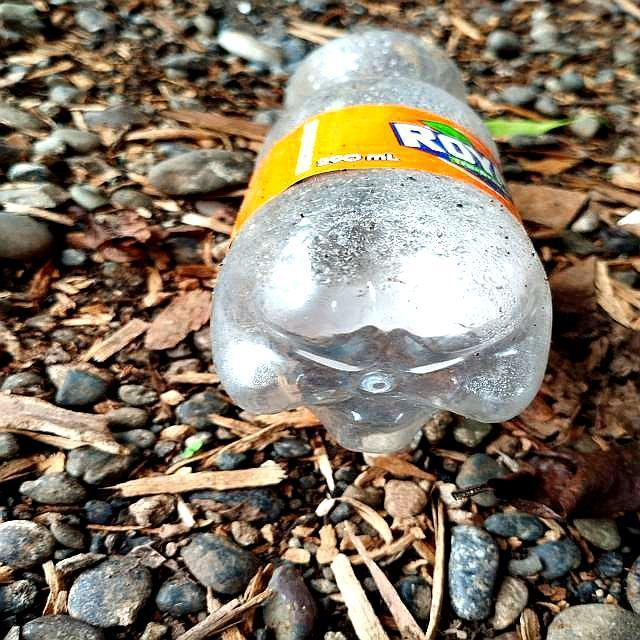Non-biodegradable: (207, 23, 555, 467)
